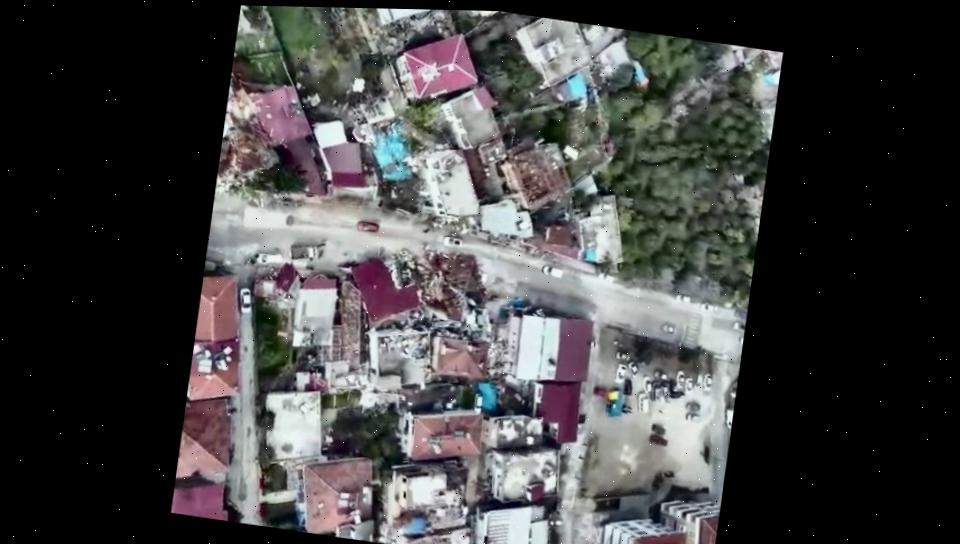kapali: (325, 200, 507, 299)
